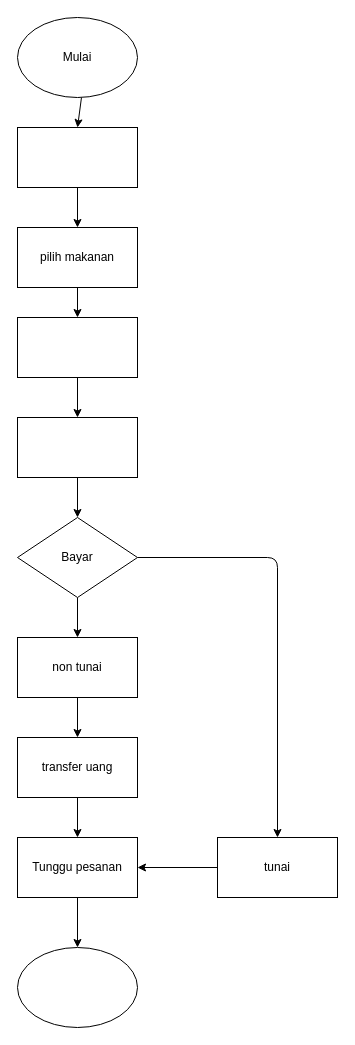
This 355x1045 diagram has some shape labels left out. The shapes that lost their labels are listed below. From the top down, each one's centre as x and y in pixels, then its label:
pixel 77 157: Buka Apps
pixel 77 347: jumlah pesanan
pixel 77 447: total pesanan
pixel 77 987: Selesai
